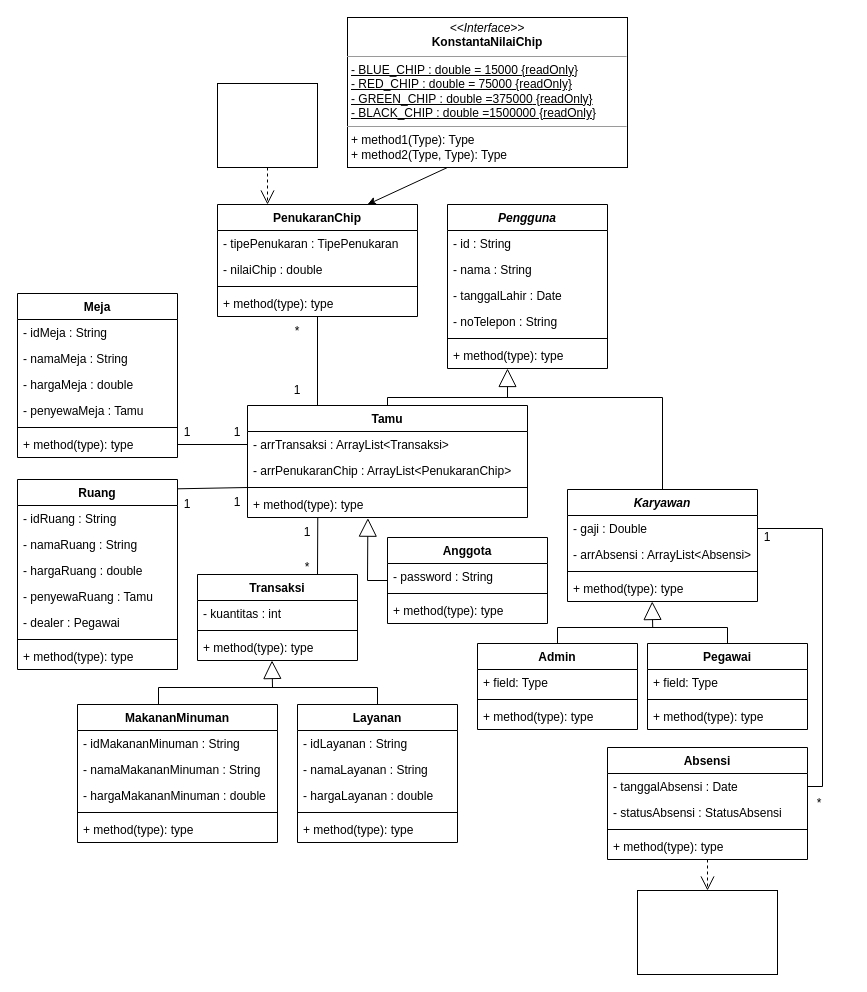
This 867x992 diagram has some shape labels left out. Here are the shapes that lost their labels. From the top down, the centre of each, then its label:
(x=267, y=125): <<enumeration>> TipePenukaran BELI JUAL
(x=707, y=932): <<enumeration>> StatusAbsensi HADIR ALPHA
